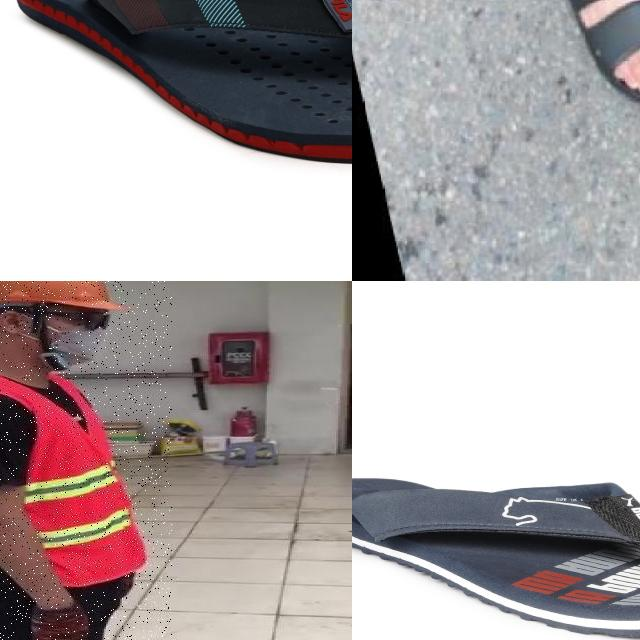No_Ear-Protection: (0, 300, 44, 352)
Sandals: (11, 0, 352, 166), (352, 475, 640, 640), (534, 0, 640, 117)
head_helmet: (0, 281, 117, 310)
person: (0, 281, 172, 640)
vest: (0, 378, 156, 584)
